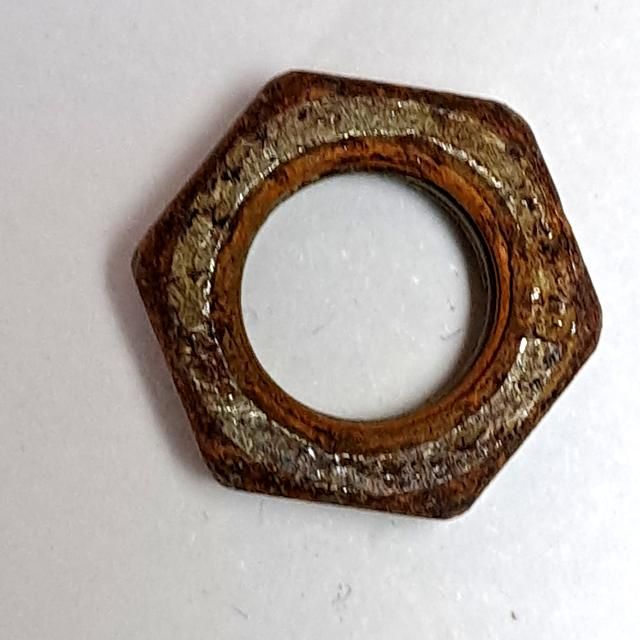Rust: (120, 64, 613, 528)
